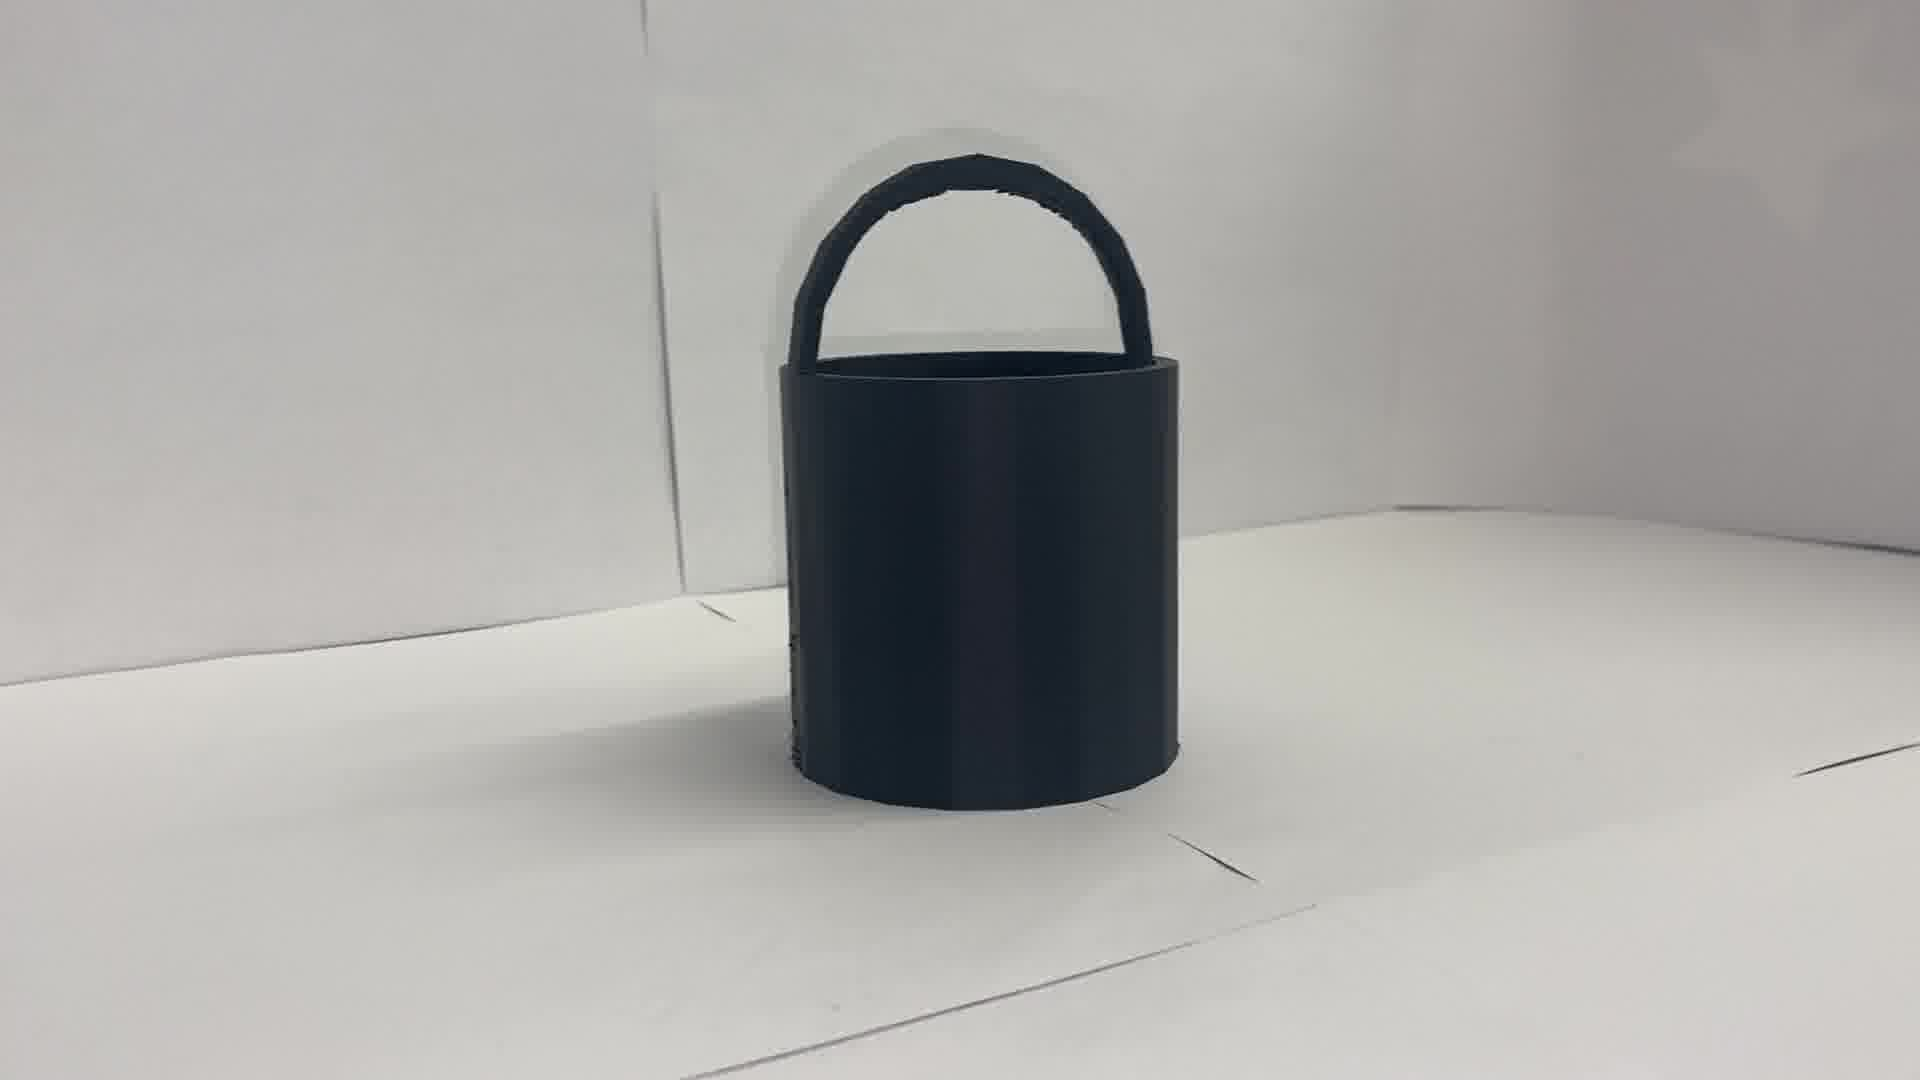bag: (770, 138, 1197, 815)
